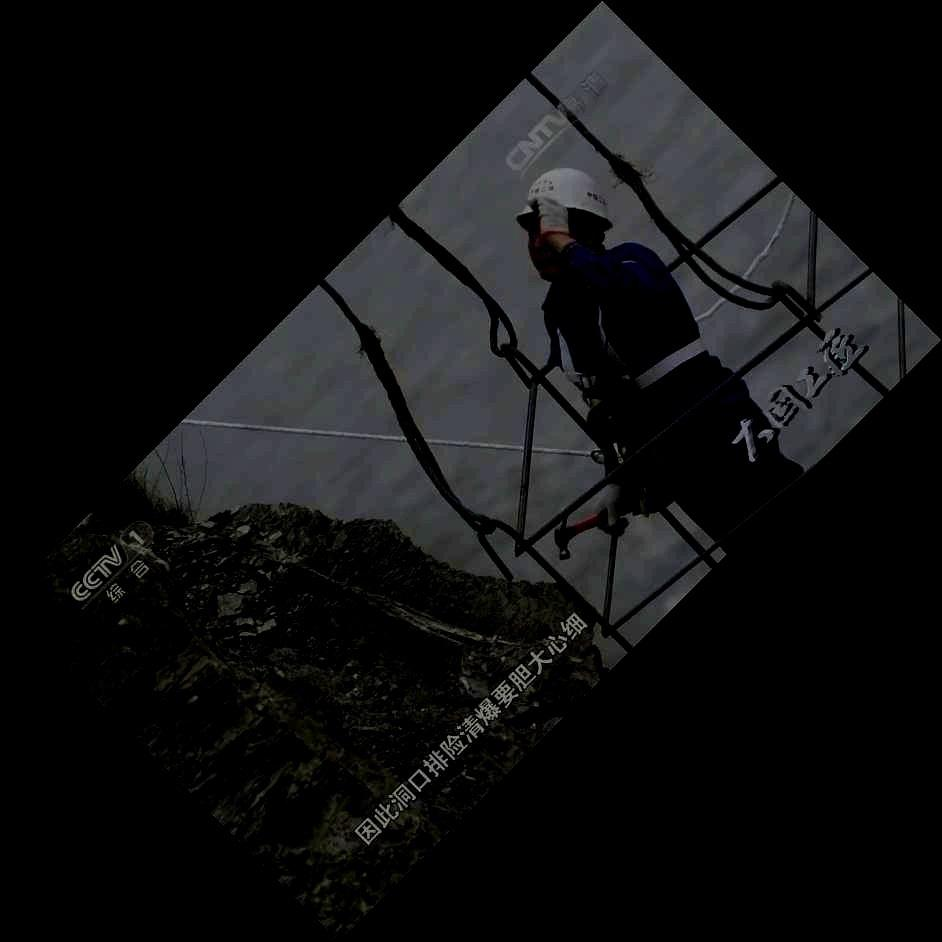helmet: (515, 166, 614, 282)
